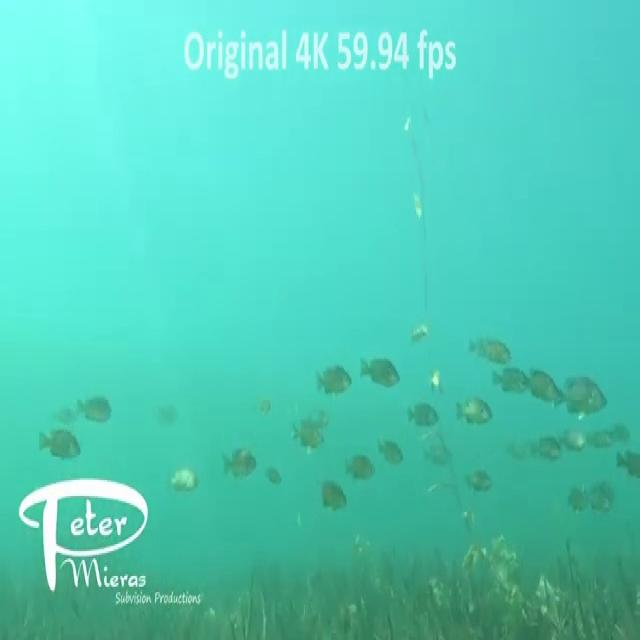Gunes Levregi: (358, 350, 401, 390), (42, 426, 80, 465), (462, 393, 493, 431), (318, 365, 351, 395), (80, 396, 113, 425), (464, 464, 493, 496), (227, 449, 256, 481), (171, 465, 200, 496), (347, 448, 375, 480)
